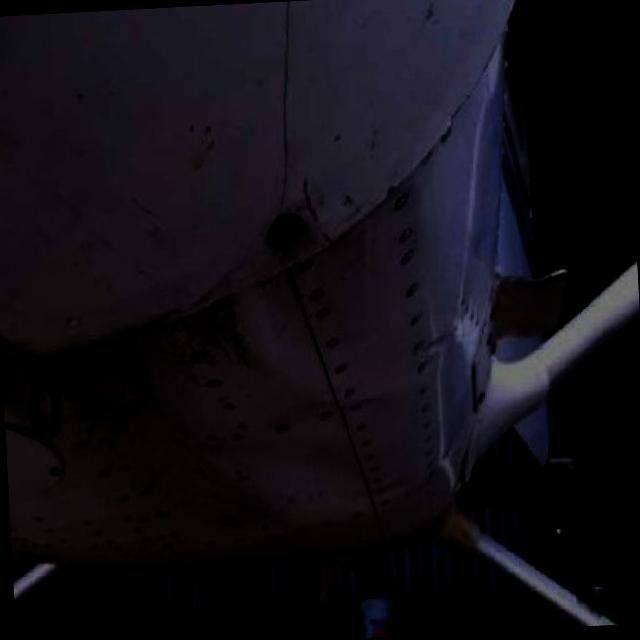dent: (232, 228, 392, 398)
